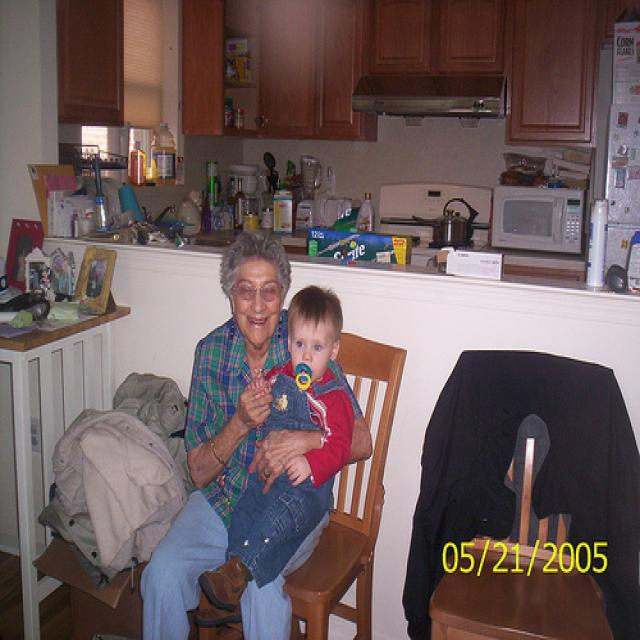bottle: (154, 120, 177, 187), (233, 175, 247, 234), (357, 191, 376, 234)
chair: (281, 331, 408, 640), (429, 434, 616, 639)
